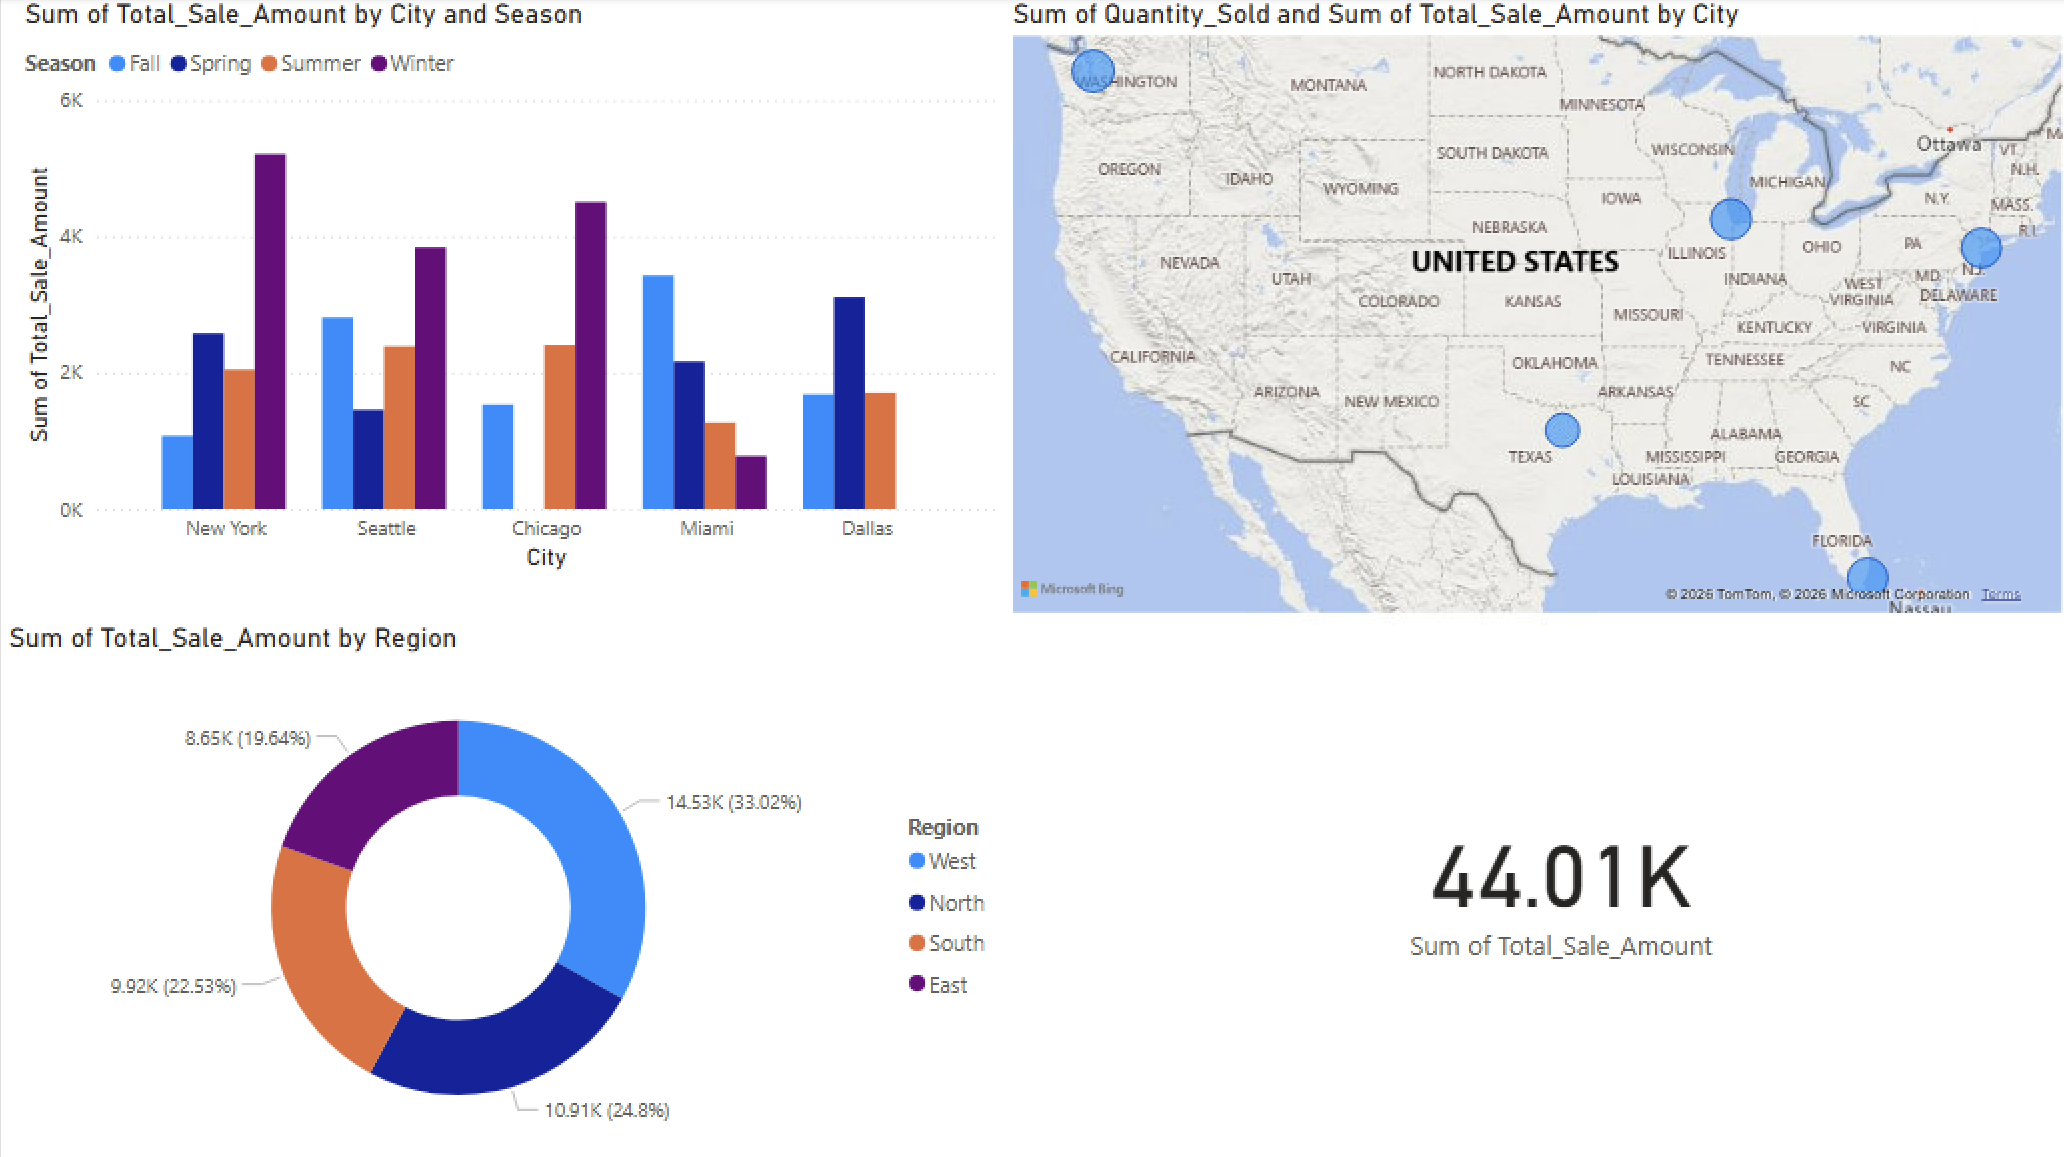

This screenshot's page, from the dashboard's own definition file:
{"tool":"powerbi","page":{"name":"Page 1","canvas":[1280,720],"ordinal":0},"visuals":[{"type":"clusteredColumnChart","fields":{"Category":["Sheet1.City"],"Series":["Sheet1.Season"],"Y":["Sum(Sheet1.Total_Sale_Amount)"]},"box":[10.5,0,610.5,360.3],"z":0},{"type":"map","fields":{"Category":["Sheet1.City"],"Size":["Sum(Sheet1.Quantity_Sold)"]},"box":[621,0,659,386.5],"z":1},{"type":"donutChart","fields":{"Category":["Sheet1.Region"],"Y":["Sum(Sheet1.Total_Sale_Amount)"]},"box":[0,386.5,630.2,334.1],"z":2},{"type":"card","fields":{"Values":["Sum(Sheet1.Total_Sale_Amount)"]},"box":[651.1,386.5,628.9,323.6],"z":3}]}

Visuals, with their boxes in screenshot pixels (x1, y1, x2, y2), scaled from the page's 1280x720 canvas onto the 2064x1157 screenshot:
clusteredColumnChart - Sheet1.City x Sheet1.Season: 17,0,1001,579
map - Sheet1.City x Sum(Sheet1.Quantity_Sold): 1001,0,2063,621
donutChart - Sheet1.Region x Sum(Sheet1.Total_Sale_Amount): 0,621,1016,1156
card - Sum(Sheet1.Total_Sale_Amount): 1050,621,2063,1141
